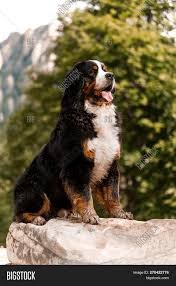dog_sitting: (12, 59, 134, 228)
